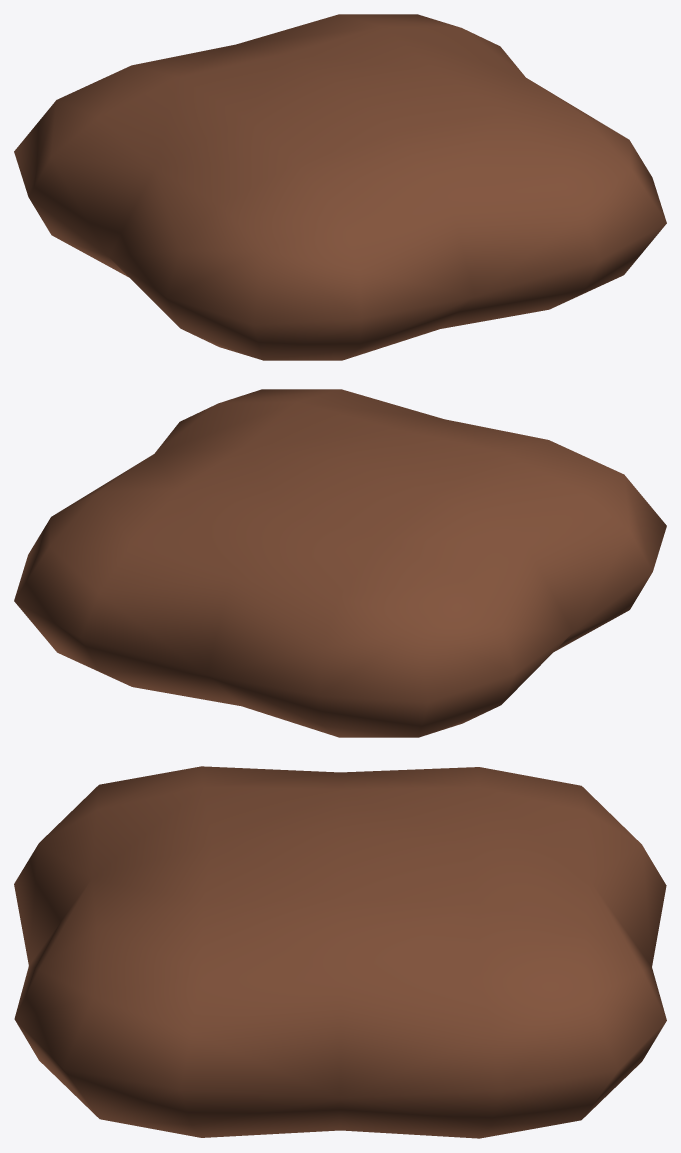
File: SeatPillow_01.FBX
The picture shows the model from 3 angles, top to bottom: view 1: azimuth 30°, elevation 25°; view 2: azimuth 150°, elevation 25°; view 3: azimuth 270°, elevation 25°; orthographic projection. The views are drawn at different scales.
Visible parts, largest first — view 1: SeatPillow_01; view 2: SeatPillow_01; view 3: SeatPillow_01.
Part boxes in pixels (x1,y1,x2,y2): SeatPillow_01: [14, 14, 666, 360]; SeatPillow_01: [14, 389, 666, 737]; SeatPillow_01: [14, 766, 666, 1138].
Bounding box in the file's own units: 41.42 × 16.66 × 41.42.
